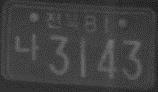1: (78, 35, 89, 80), (102, 13, 112, 39)
3: (48, 33, 70, 76), (122, 38, 143, 83)
4: (96, 38, 119, 78)
8: (83, 14, 99, 37)
나: (14, 32, 39, 63)
전북_O: (45, 11, 81, 32)
